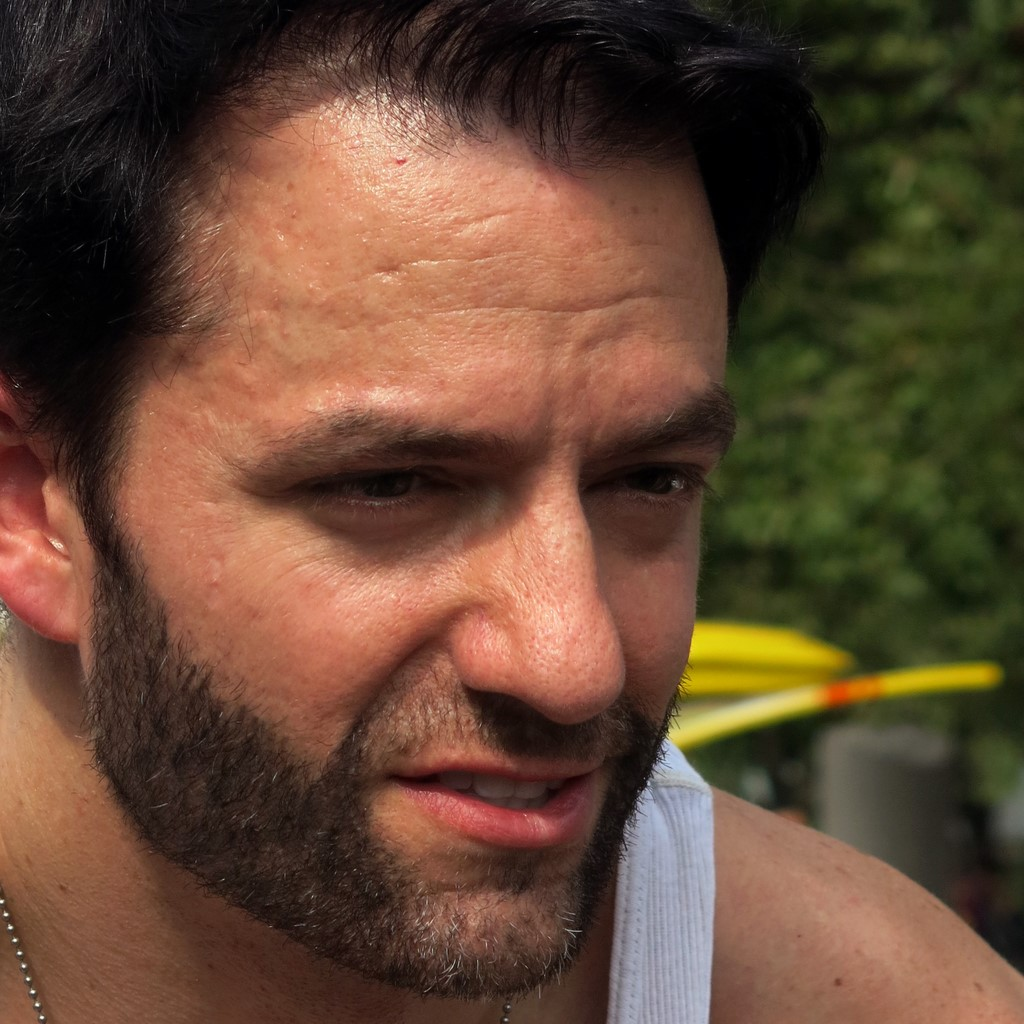sin_mascara: (77, 67, 733, 978)
